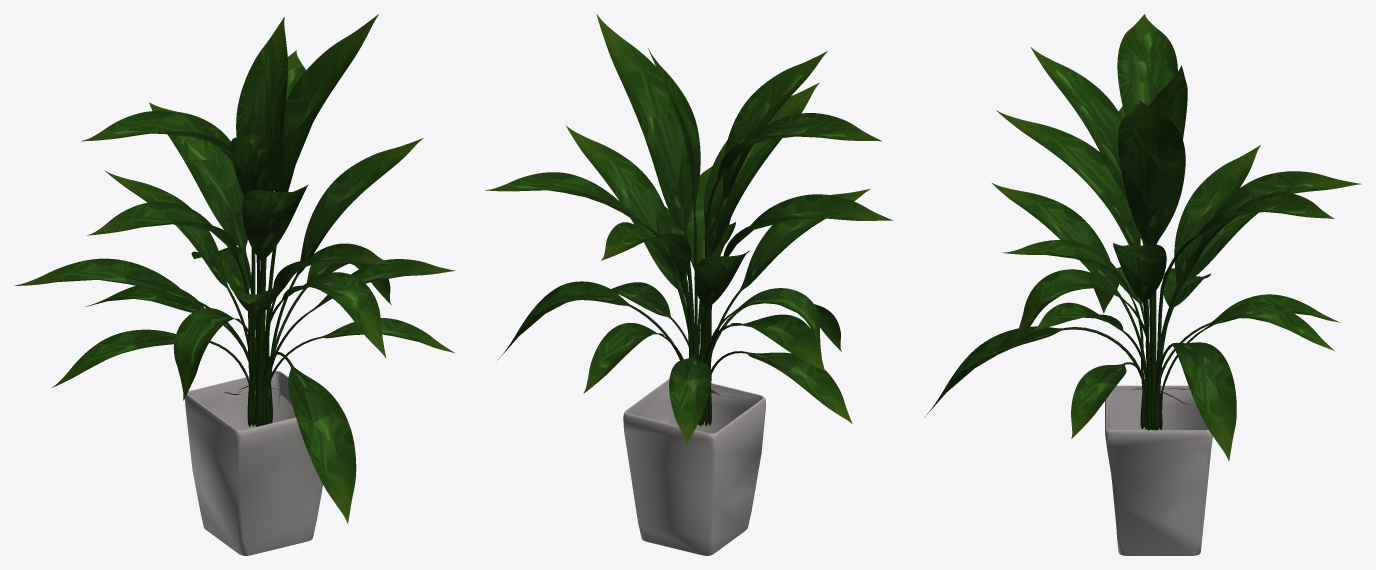
The model's file is planta 1.glb.
3 views of the same model, side by side, from view 1: azimuth 30°, elevation 25°; view 2: azimuth 150°, elevation 25°; view 3: azimuth 270°, elevation 25° (orthographic). The views are drawn at different scales.
Visible parts, largest first — view 1: HOJITAS003; view 2: HOJITAS003; view 3: HOJITAS003.
Boxes of the visible parts, bbox=[...] form: HOJITAS003: bbox=[14, 14, 455, 555]; HOJITAS003: bbox=[485, 14, 892, 555]; HOJITAS003: bbox=[924, 14, 1361, 555].
Size of the model in its own units: 0.724 by 0.9672 by 0.7829.
3 materials, 2 textured.
